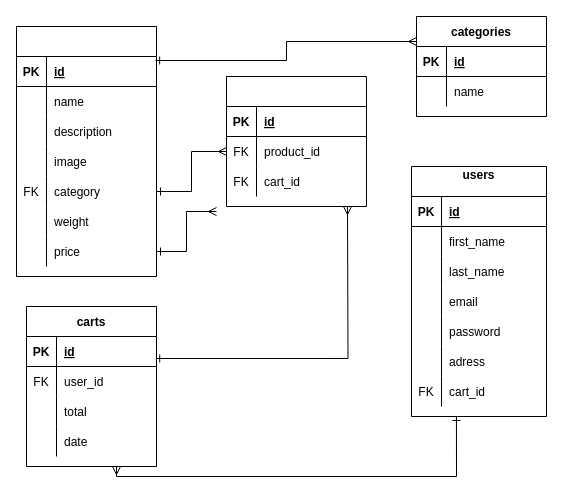
The diagram is 563 pixels wide and 493 high, and some of its shapes have lost their labels. Here are the shapes that lost their labels. From the top down, the box of each, then its label:
(16, 26, 156, 276): products
(226, 76, 366, 206): carts_products
